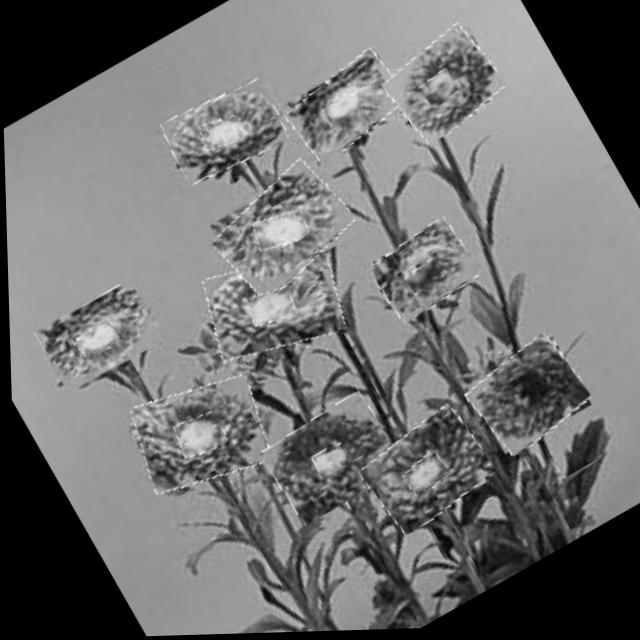Flower: (189, 229, 357, 383), (115, 358, 280, 512), (200, 157, 364, 306), (254, 391, 404, 530), (350, 404, 498, 542), (458, 333, 596, 464), (377, 22, 511, 149), (157, 72, 293, 192), (277, 48, 414, 167), (31, 278, 164, 396), (363, 217, 483, 329), (246, 203, 312, 260), (168, 407, 227, 462), (242, 282, 299, 333), (395, 451, 449, 501), (195, 112, 247, 157), (73, 318, 122, 362), (417, 70, 461, 111), (307, 442, 351, 481), (319, 92, 364, 130), (401, 259, 445, 296)
